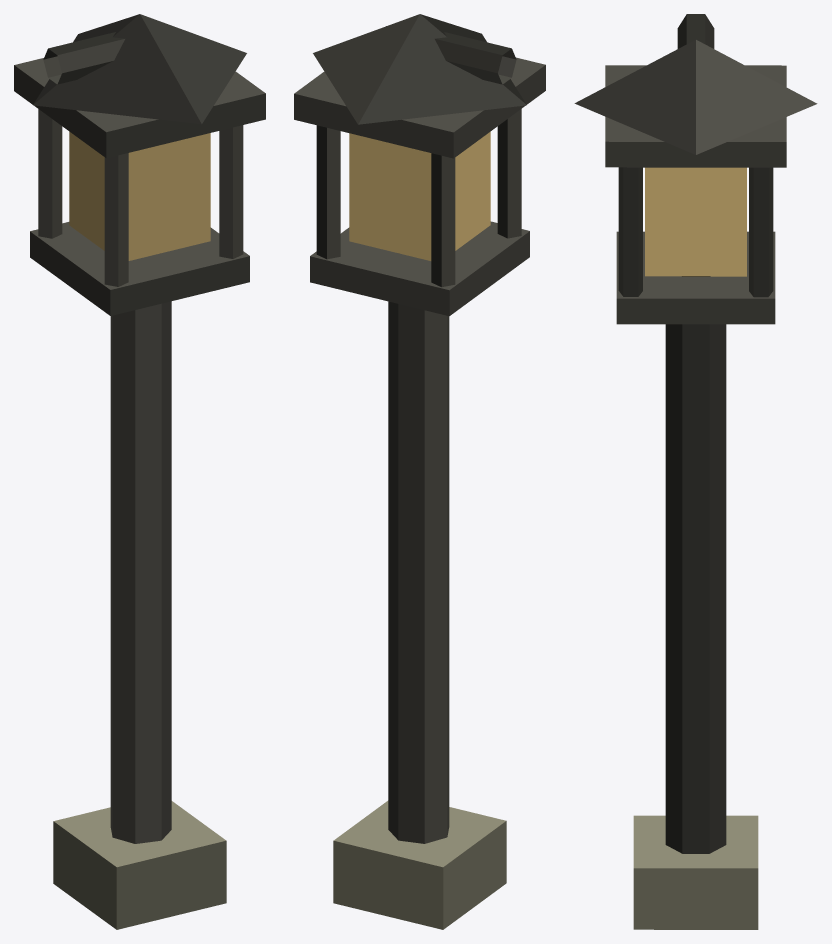
3 renders of one model, left to right at view 1: azimuth 30°, elevation 25°; view 2: azimuth 150°, elevation 25°; view 3: azimuth 270°, elevation 25°, orthographic.
Parts seen in each view (by area): view 1: 04432485eb20203682b1337182b8c439a33f516fd81ea5264ff347a3aabf; view 2: 04432485eb20203682b1337182b8c439a33f516fd81ea5264ff347a3aabf; view 3: 04432485eb20203682b1337182b8c439a33f516fd81ea5264ff347a3aabf.
Part boxes in pixels (x1=…): 04432485eb20203682b1337182b8c439a33f516fd81ea5264ff347a3aabf: x1=14, y1=14, x2=265, y2=929; 04432485eb20203682b1337182b8c439a33f516fd81ea5264ff347a3aabf: x1=294, y1=14, x2=545, y2=929; 04432485eb20203682b1337182b8c439a33f516fd81ea5264ff347a3aabf: x1=574, y1=14, x2=817, y2=929.
Size of the model in its own units: 0.86 by 3.37 by 0.86.
Materials: 2 (1 with a texture image).
